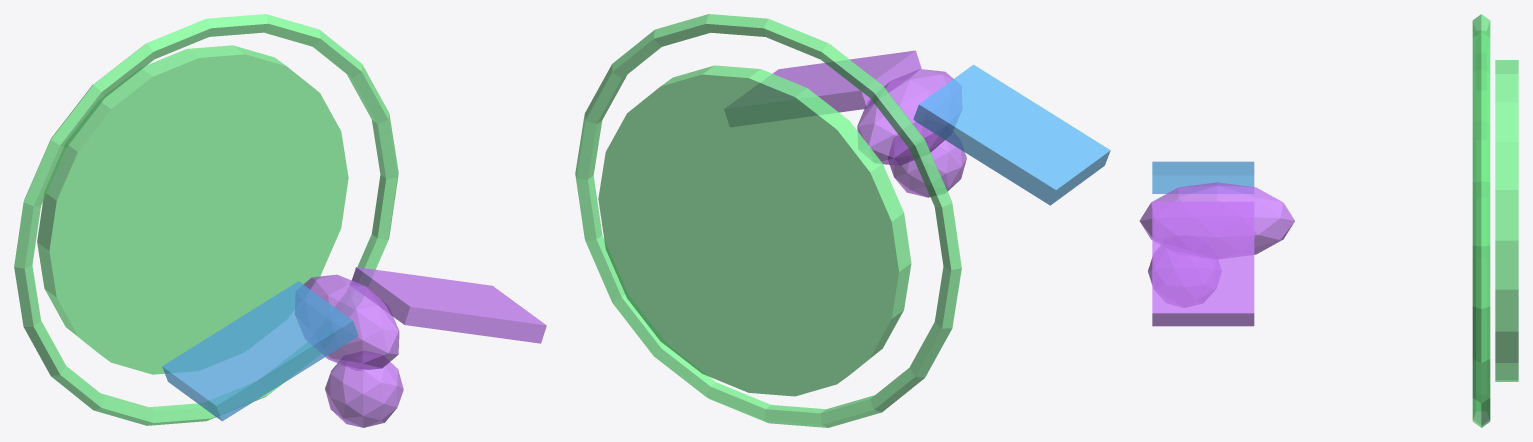
Rendered from 08_butterfly_critter.glb.
3 views of the same model, side by side, from view 1: azimuth 30°, elevation 25°; view 2: azimuth 150°, elevation 25°; view 3: azimuth 270°, elevation 25° (orthographic). The views are drawn at different scales.
Visible parts, largest first — view 1: base_disc, base_ring, wing_l, wing_r, body, head; view 2: base_disc, base_ring, wing_l, wing_r, body, head; view 3: wing_r, body, base_ring, base_disc, wing_l, head.
Part boxes in pixels (box(x1,y1,x2,y2)): base_disc: box(37, 45, 348, 374); base_ring: box(14, 14, 398, 425); wing_l: box(162, 281, 358, 421); wing_r: box(351, 267, 546, 343); body: box(295, 274, 399, 370); head: box(325, 351, 403, 427); base_disc: box(598, 65, 911, 396); base_ring: box(575, 14, 961, 427); wing_l: box(913, 64, 1110, 205); wing_r: box(724, 50, 921, 126); body: box(857, 69, 961, 165); head: box(888, 123, 966, 197); wing_r: box(1152, 201, 1254, 326); body: box(1139, 182, 1294, 258); base_ring: box(1472, 14, 1490, 427); base_disc: box(1495, 60, 1518, 381); wing_l: box(1152, 161, 1254, 193); head: box(1148, 246, 1221, 307).
Bounding box in the file's own units: 0.9 × 0.9 × 0.818.
